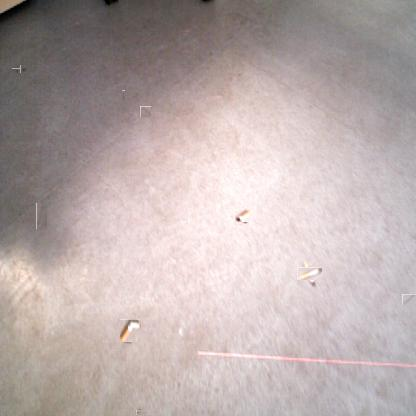dirty: (120, 319, 140, 342), (300, 264, 319, 283), (235, 209, 250, 223)
mark: (36, 203, 47, 229), (402, 293, 416, 305), (140, 106, 151, 117), (20, 65, 27, 73), (13, 67, 20, 74), (121, 90, 125, 101), (137, 409, 143, 416), (236, 70, 242, 76)
